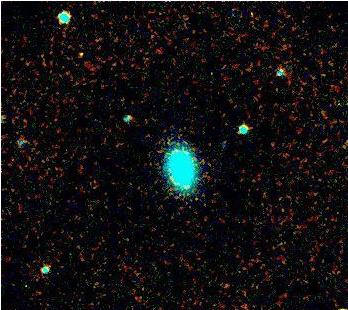star: (65, 34, 95, 64)
